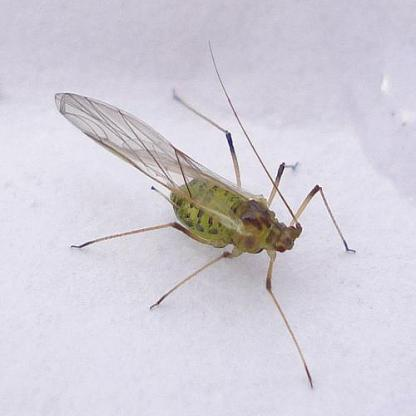aphid: (60, 40, 350, 393)
